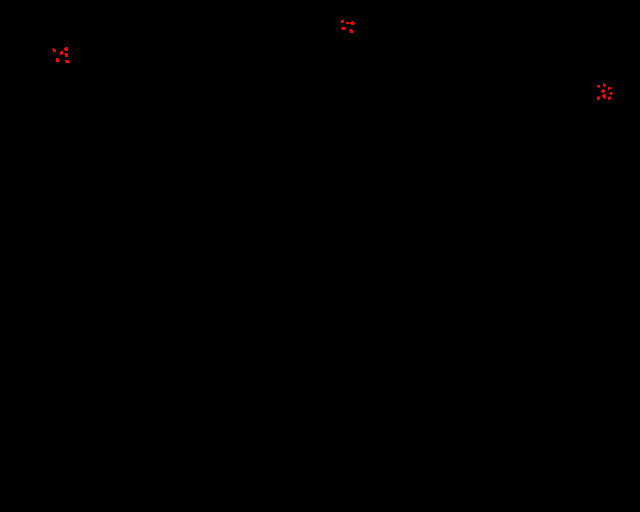Target: (350, 21, 355, 25), (602, 94, 606, 99), (349, 29, 353, 33), (64, 47, 68, 51), (52, 48, 56, 52), (64, 53, 68, 57), (601, 89, 605, 93), (65, 60, 70, 63), (341, 27, 345, 30), (60, 51, 63, 55), (56, 58, 59, 62), (603, 83, 606, 87), (597, 96, 600, 100), (608, 96, 611, 100), (341, 20, 344, 23), (597, 85, 600, 88), (608, 87, 611, 90), (610, 92, 613, 95), (346, 22, 349, 24)
